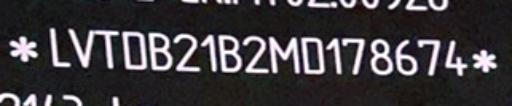letter: (170, 31, 204, 75), (268, 32, 302, 76), (145, 29, 175, 75), (65, 26, 95, 70), (240, 32, 270, 76), (338, 34, 368, 78), (119, 28, 147, 72), (94, 28, 122, 70), (217, 33, 245, 75), (442, 38, 472, 76), (298, 36, 326, 76), (415, 36, 443, 76), (368, 38, 396, 78), (46, 26, 72, 68), (394, 38, 420, 78), (322, 34, 346, 76), (198, 33, 218, 73)
